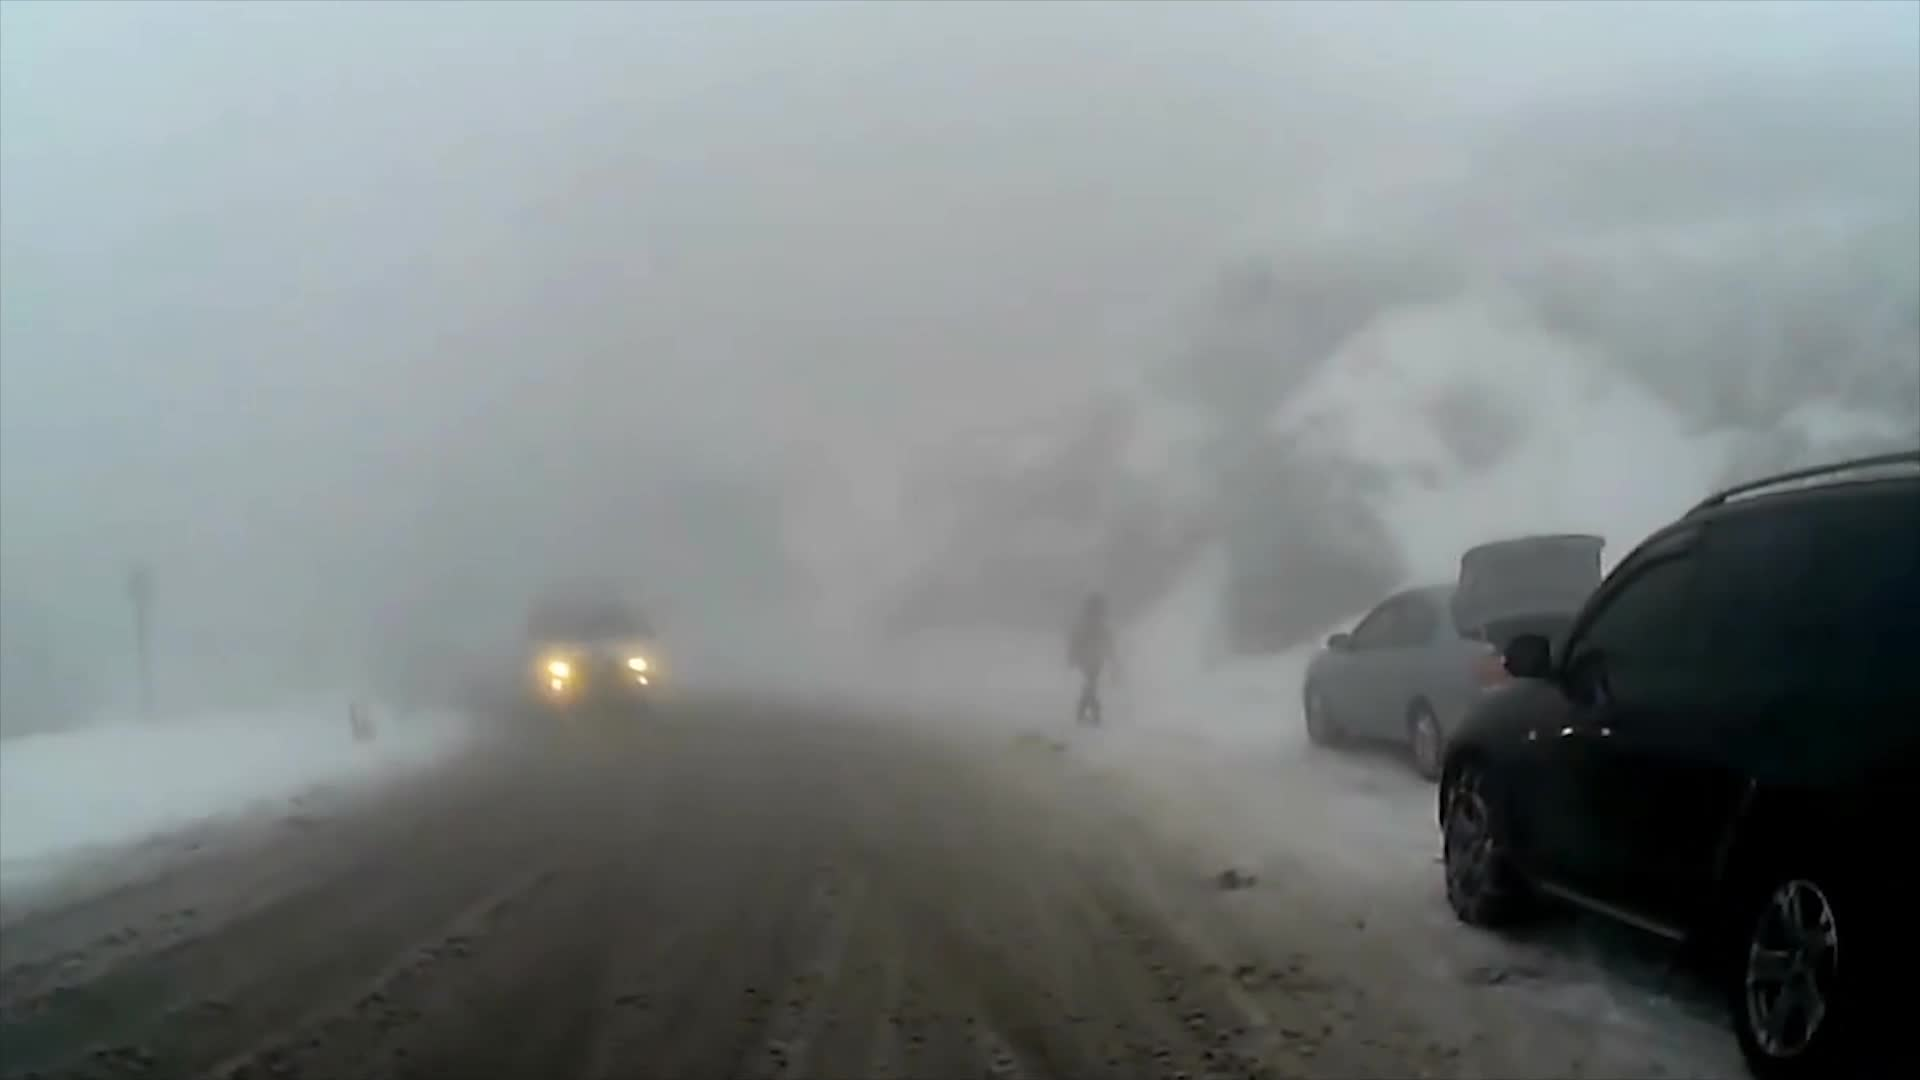pedestrian: (1071, 597, 1120, 726)
vehicle: (1435, 446, 1920, 1080), (1300, 530, 1663, 783), (522, 584, 663, 728)
